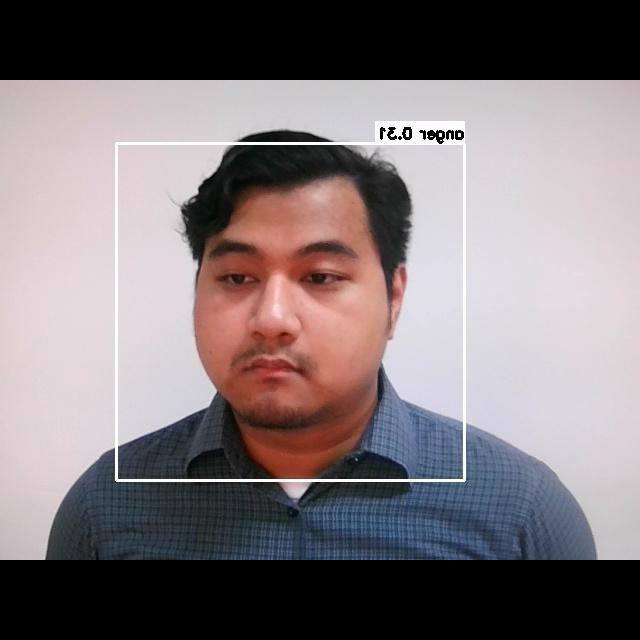Natural: (181, 212, 403, 390)
